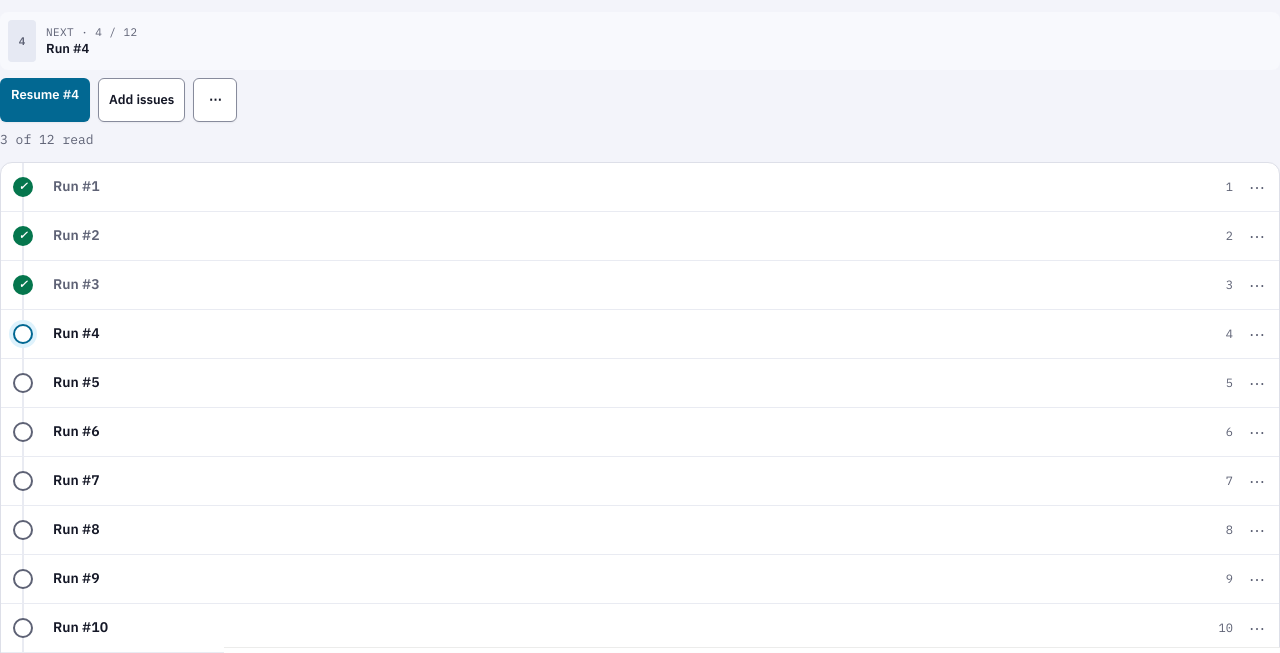
Test case: selecting a range by touch › a long-press runs from the first unread placement to the pressed row
Press the mouse on the element with class "iss" showing "Run #8 8 ⋯" at (640, 530), box [1,506,1279,554]
Wait 500 ms
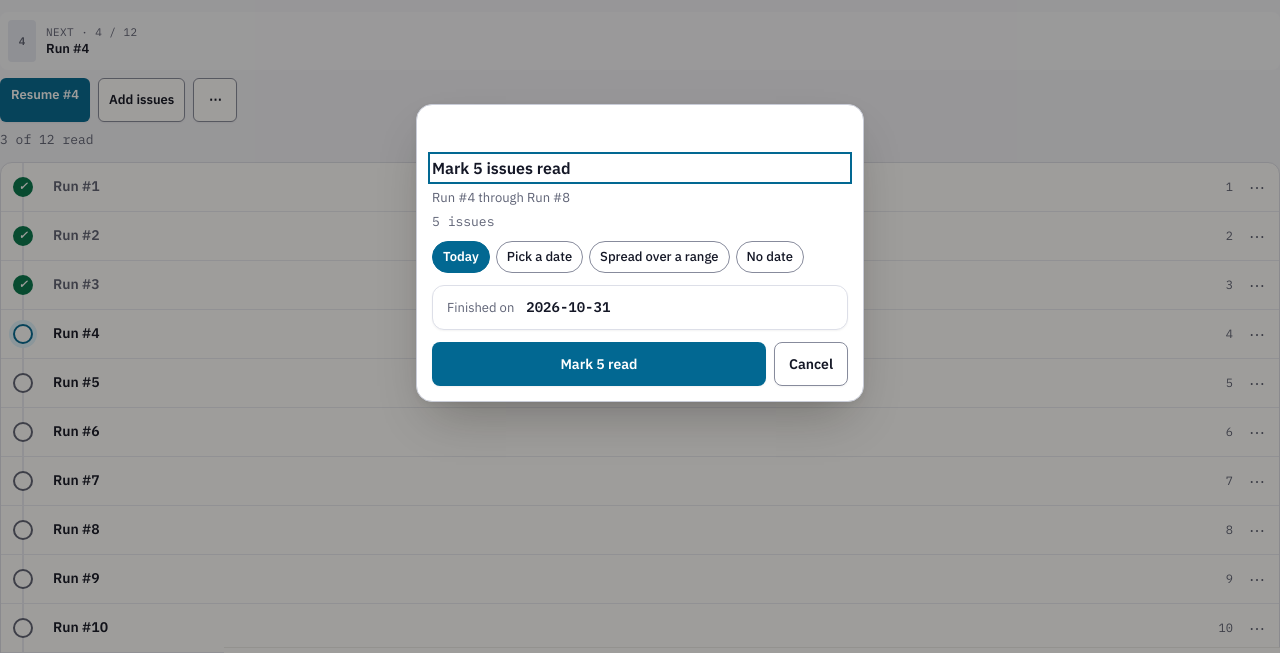
Check: the heading "Mark 5 issues read" is shown, box [432,158,570,178]
Check: the dialog shows "Run #4 through Run #8", box [432,189,570,206]
